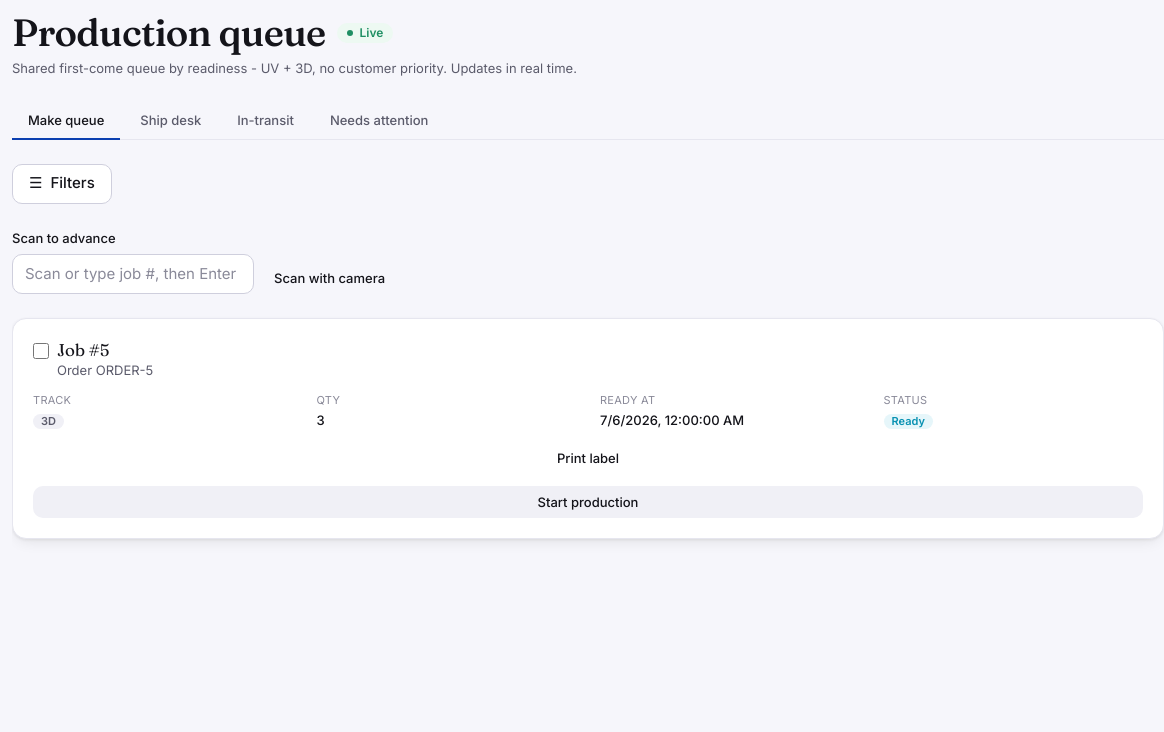
Test: toasts the API error when a button-driven advance fails
Click the button "Start production": (588, 502) [33, 486, 1143, 518]
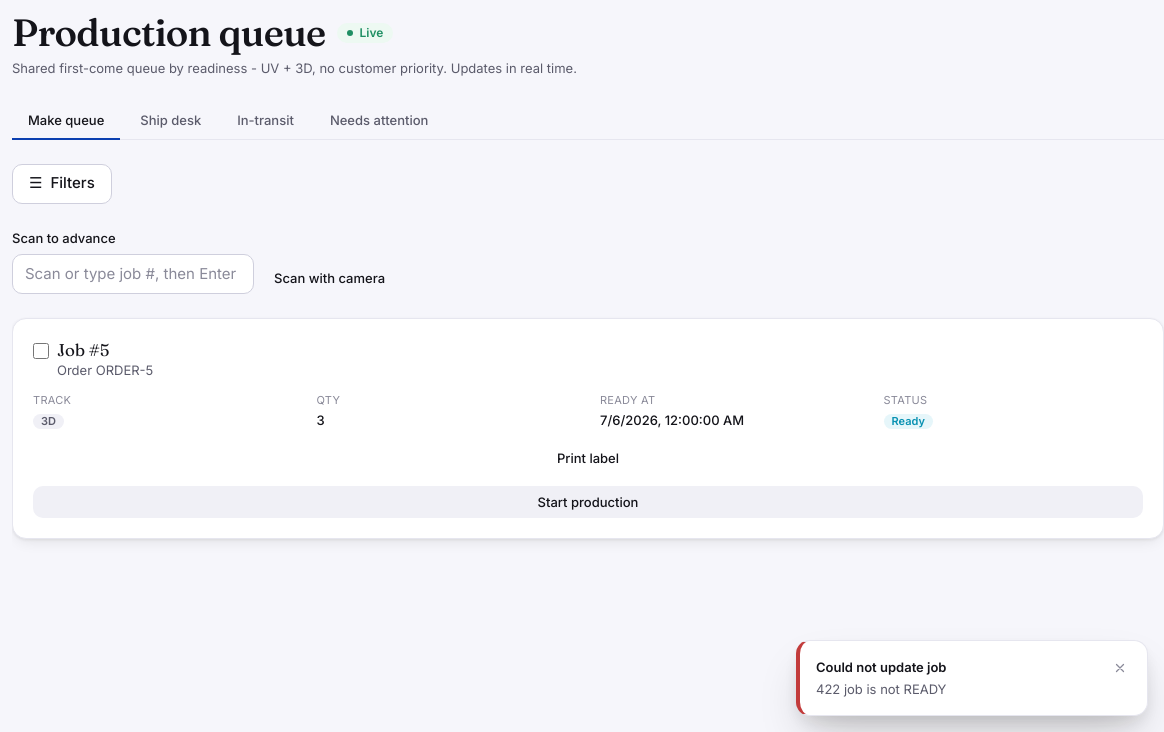
Expected: the text "422 job is not READY" is shown, [816, 681, 946, 697]
